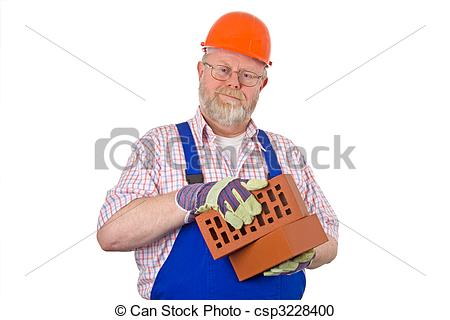casco: (199, 10, 273, 70)
